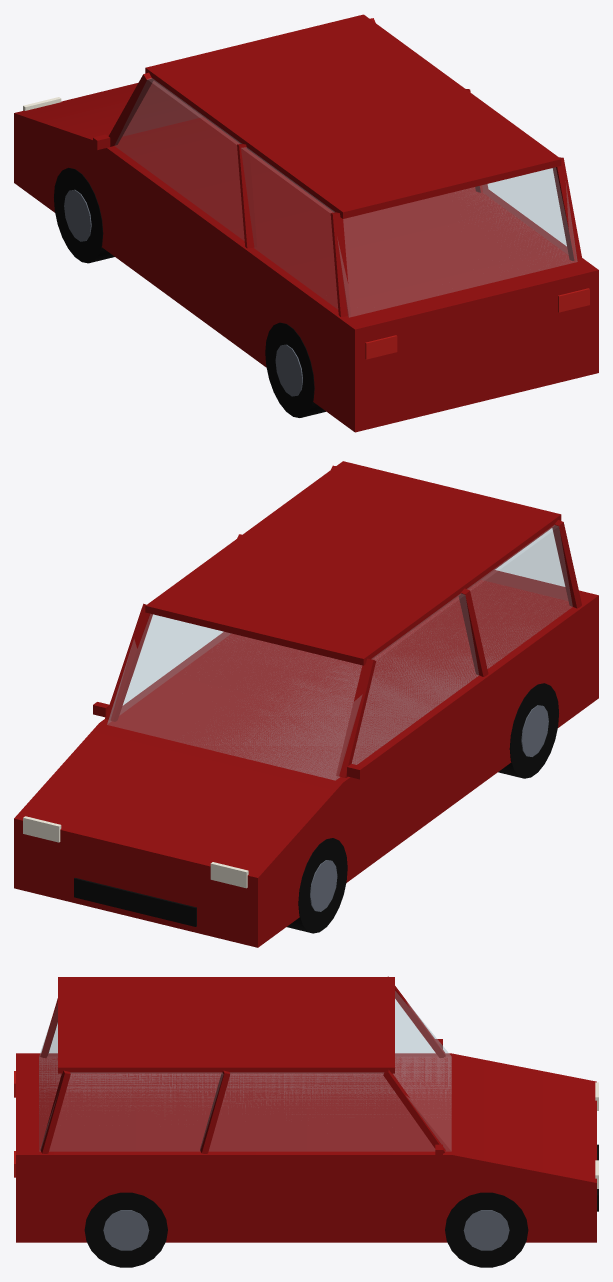
The model's file is vehicle.car.suv_red.glb.
The picture shows the model from 3 angles, top to bottom: view 1: azimuth 30°, elevation 25°; view 2: azimuth 150°, elevation 25°; view 3: azimuth 270°, elevation 25°; orthographic projection. The views are drawn at different scales.
Parts seen in each view (by area): view 1: main__car_red, main__glass, main__rubber, main__steel_painted, main__hazard_red; view 2: main__car_red, main__glass, main__rubber, main__plastic_black, main__steel_painted, main__light_emitter; view 3: main__car_red, main__glass, main__rubber, main__steel_painted.
Boxes of the visible parts, bbox=[...] form: main__car_red: bbox=[14, 14, 598, 432]; main__glass: bbox=[115, 78, 577, 317]; main__rubber: bbox=[54, 167, 325, 417]; main__steel_painted: bbox=[64, 189, 302, 396]; main__hazard_red: bbox=[365, 288, 589, 359]; main__car_red: bbox=[14, 461, 598, 947]; main__glass: bbox=[107, 525, 572, 780]; main__rubber: bbox=[287, 683, 558, 933]; main__plastic_black: bbox=[74, 878, 196, 926]; main__steel_painted: bbox=[310, 705, 548, 911]; main__light_emitter: bbox=[23, 816, 248, 888]; main__car_red: bbox=[16, 976, 596, 1242]; main__glass: bbox=[39, 991, 451, 1151]; main__rubber: bbox=[84, 1192, 528, 1267]; main__steel_painted: bbox=[103, 1210, 509, 1250].
Size of the model in its own units: 2.08 by 1.7 by 4.63.
